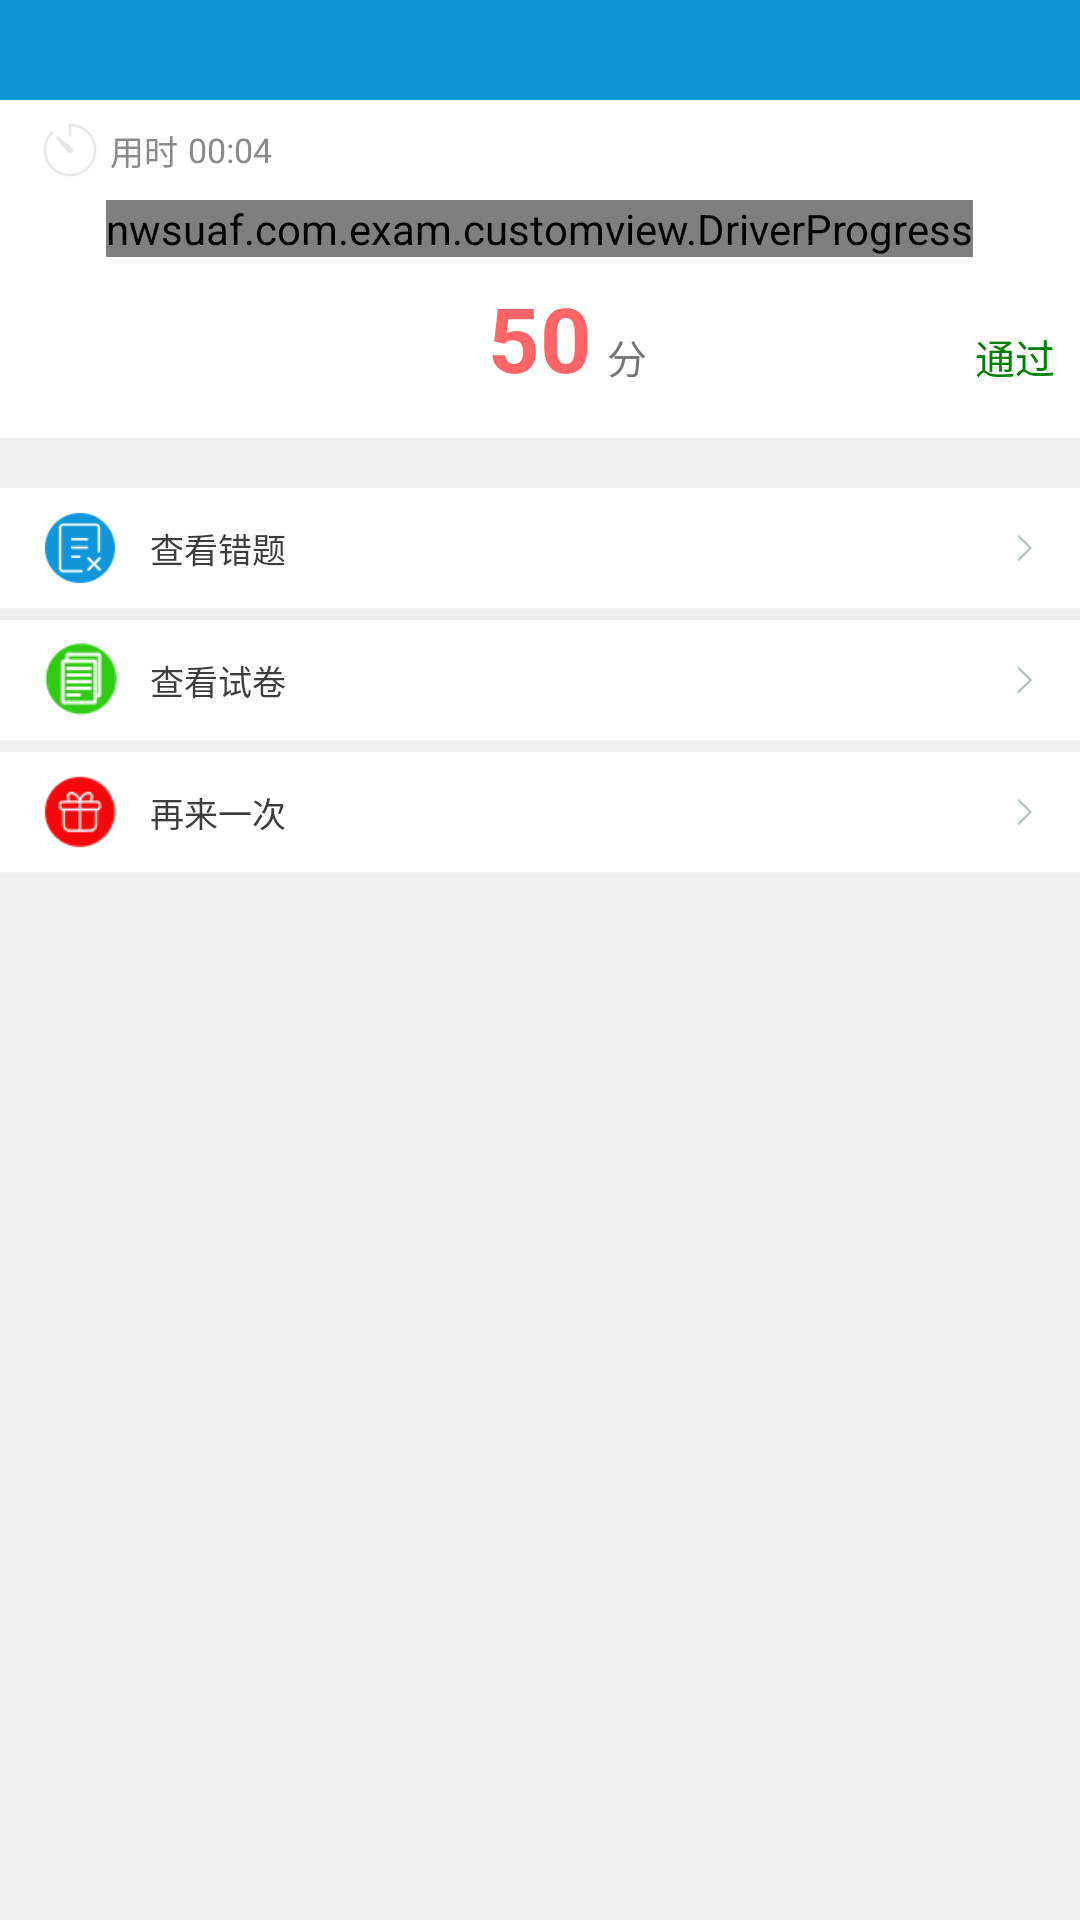

Screen size 1080x1920. Icon name, then its center in pixels as point (x, y):
errormine: point (79, 548)
right: point (1024, 548), point (1024, 680), point (1024, 812)
seeexam: point (81, 679)
time: point (70, 150)
